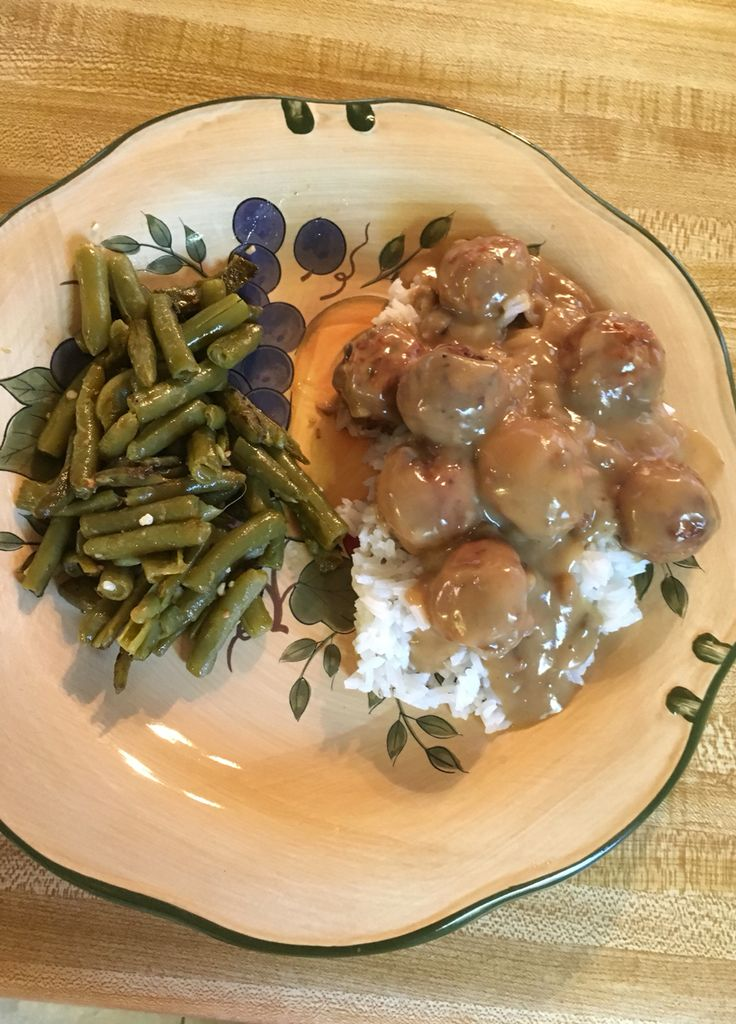boiled peas: (59, 279, 299, 663)
meatballs: (479, 420, 590, 533), (615, 461, 715, 566), (404, 342, 508, 437), (332, 328, 424, 423), (436, 235, 539, 319), (390, 441, 476, 538), (585, 323, 661, 423)
plain rice: (341, 533, 444, 716), (564, 541, 651, 642), (431, 644, 531, 722)
